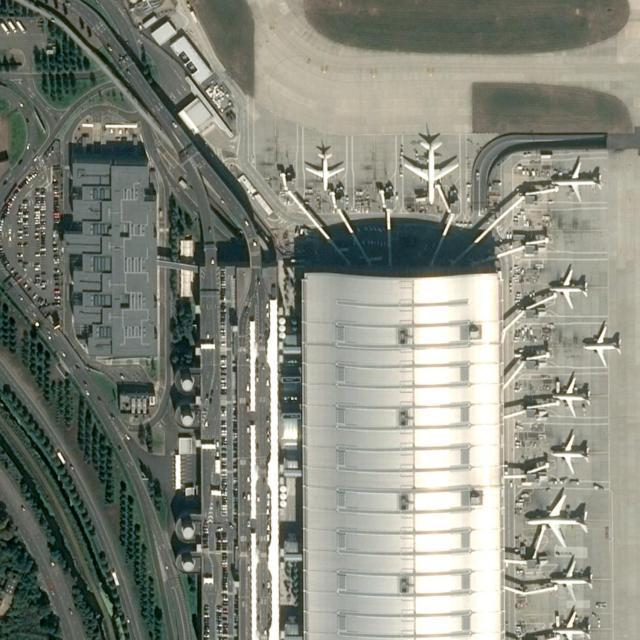Aircraft: (403, 139, 459, 204), (525, 494, 587, 548), (551, 160, 602, 202), (549, 375, 591, 416), (548, 561, 592, 600), (306, 150, 346, 190), (547, 268, 587, 308), (581, 325, 621, 365), (547, 434, 589, 472), (555, 612, 591, 640)
